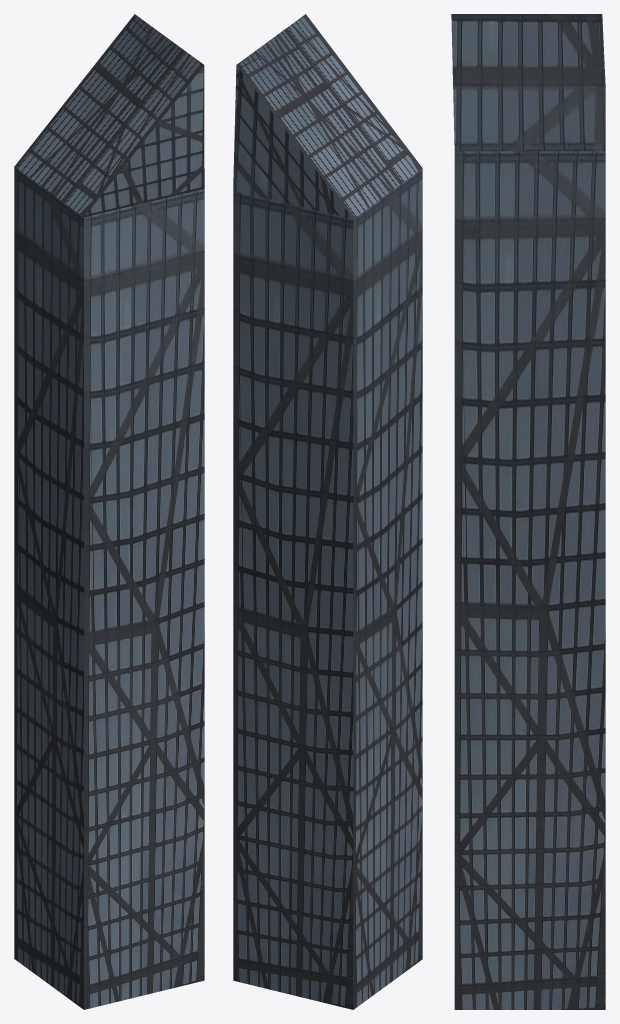
Rendered from build1.obj.
The picture shows the model from 3 angles, left to right: view 1: azimuth 30°, elevation 25°; view 2: azimuth 150°, elevation 25°; view 3: azimuth 270°, elevation 25°; orthographic projection. The views are drawn at different scales.
Parts seen in each view (by area): view 1: Object_18; view 2: Object_18; view 3: Object_18.
Boxes of the visible parts, box(x1,y1,x2,y2) form: Object_18: box(14, 14, 204, 1009); Object_18: box(233, 14, 422, 1009); Object_18: box(451, 14, 605, 1009).
Bounding box in the file's own units: 0.5719 × 4.16 × 0.5842.
